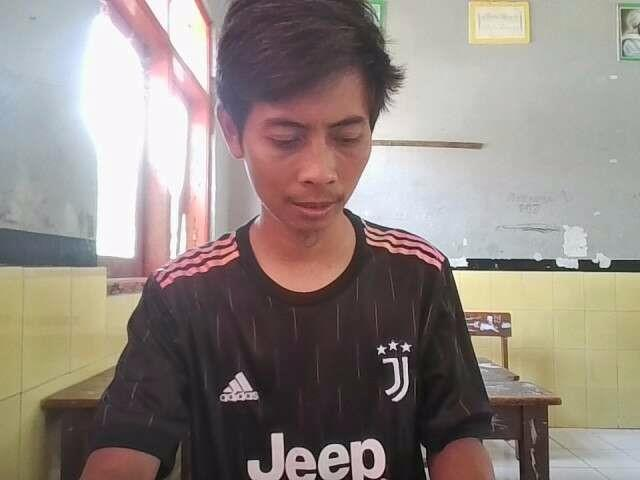good: (59, 3, 503, 480)
